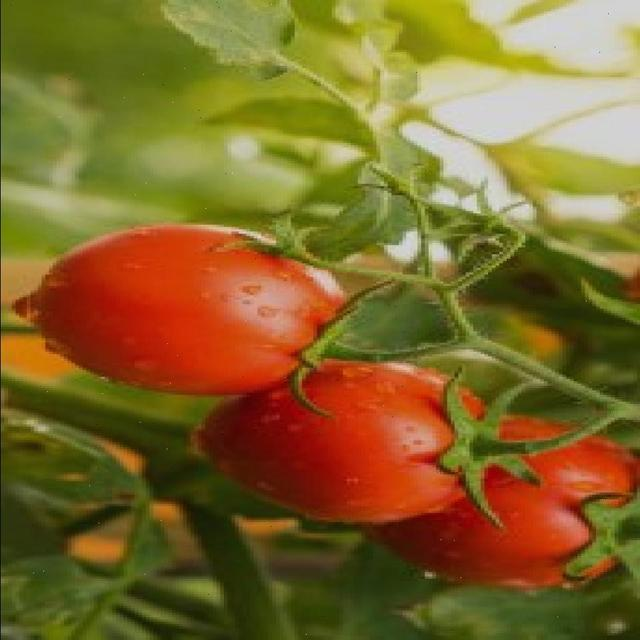Healthy Fruit: (132, 104, 328, 332)
